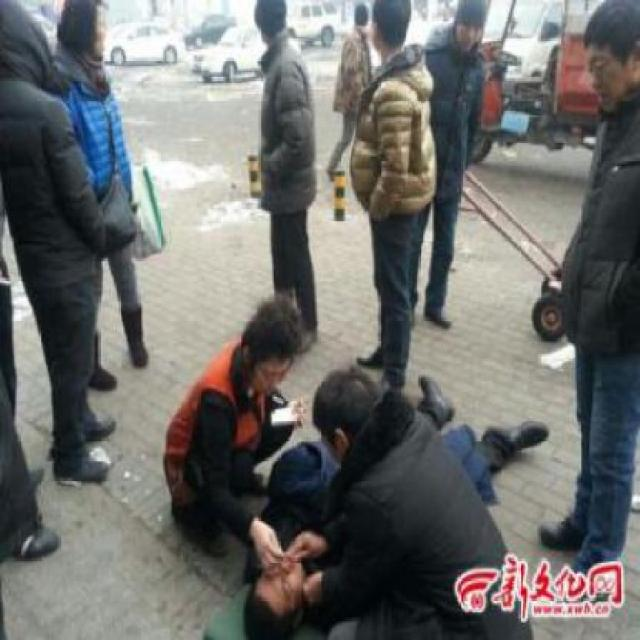fall: (274, 360, 558, 628)
